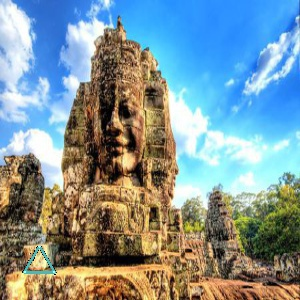triangle: (21, 243, 58, 276)
